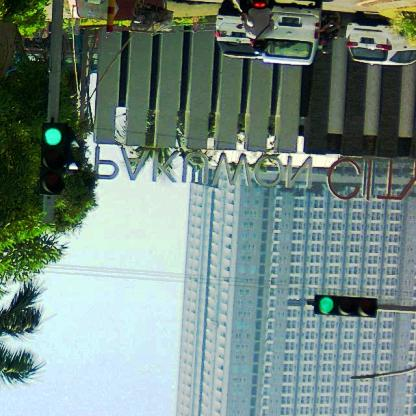Traffic Light -Green-: (40, 123, 63, 195), (313, 297, 379, 316)
